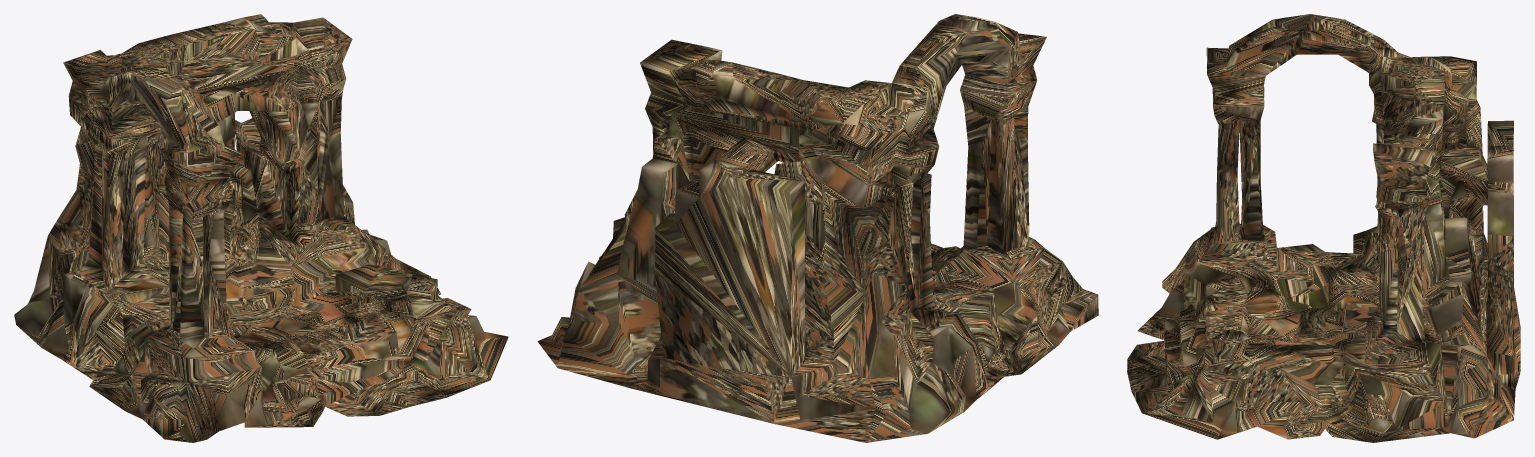
The model's file is Desert_Ruins.glb.
The picture shows the model from 3 angles, left to right: view 1: azimuth 30°, elevation 25°; view 2: azimuth 150°, elevation 25°; view 3: azimuth 270°, elevation 25°; orthographic projection. The views are drawn at different scales.
Parts seen in each view (by area): view 1: Desert_Ruins; view 2: Desert_Ruins; view 3: Desert_Ruins.
Part boxes in pixels (x1=…): Desert_Ruins: x1=14, y1=14, x2=508, y2=442; Desert_Ruins: x1=537, y1=14, x2=1098, y2=442; Desert_Ruins: x1=1127, y1=14, x2=1520, y2=442.
Size of the model in its own units: 1.9 by 1.46 by 1.85.
1 material, 1 textured.
